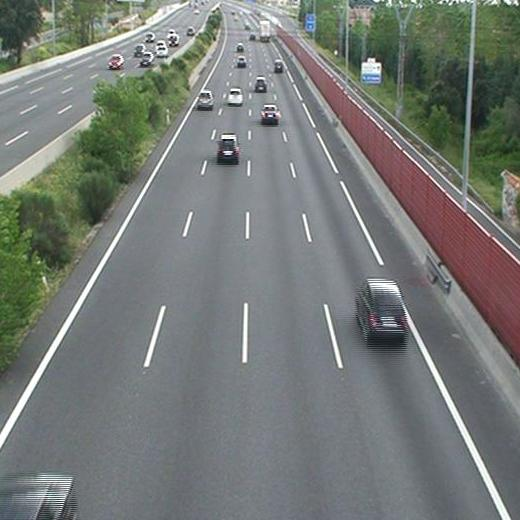car: (357, 278, 405, 336), (217, 135, 238, 160), (261, 105, 279, 123), (196, 90, 213, 108), (228, 88, 243, 104), (255, 77, 266, 91), (274, 61, 283, 71), (237, 56, 245, 66), (235, 43, 244, 50)
truck: (260, 20, 271, 42)
